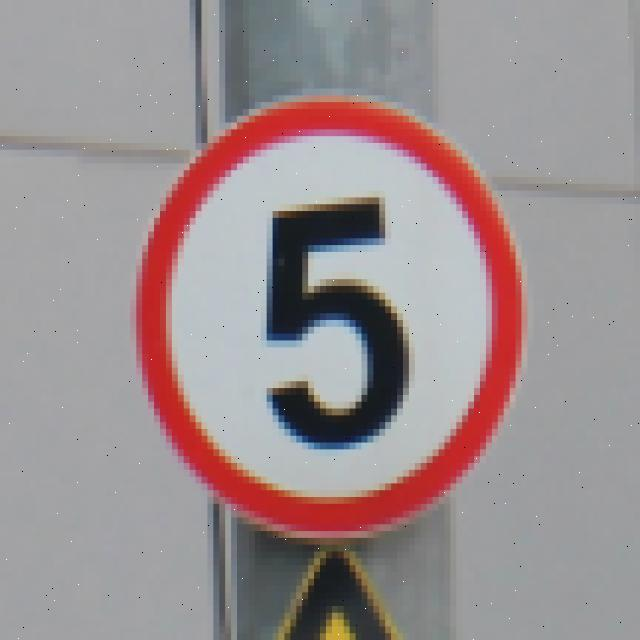speed limit 10: (139, 95, 526, 545)
